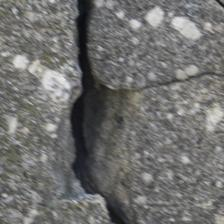Crack: (10, 89, 119, 134), (0, 74, 170, 100)
